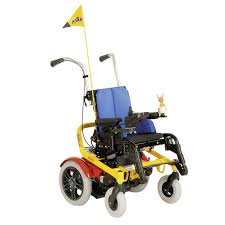wheelchair: (54, 90, 183, 208)
